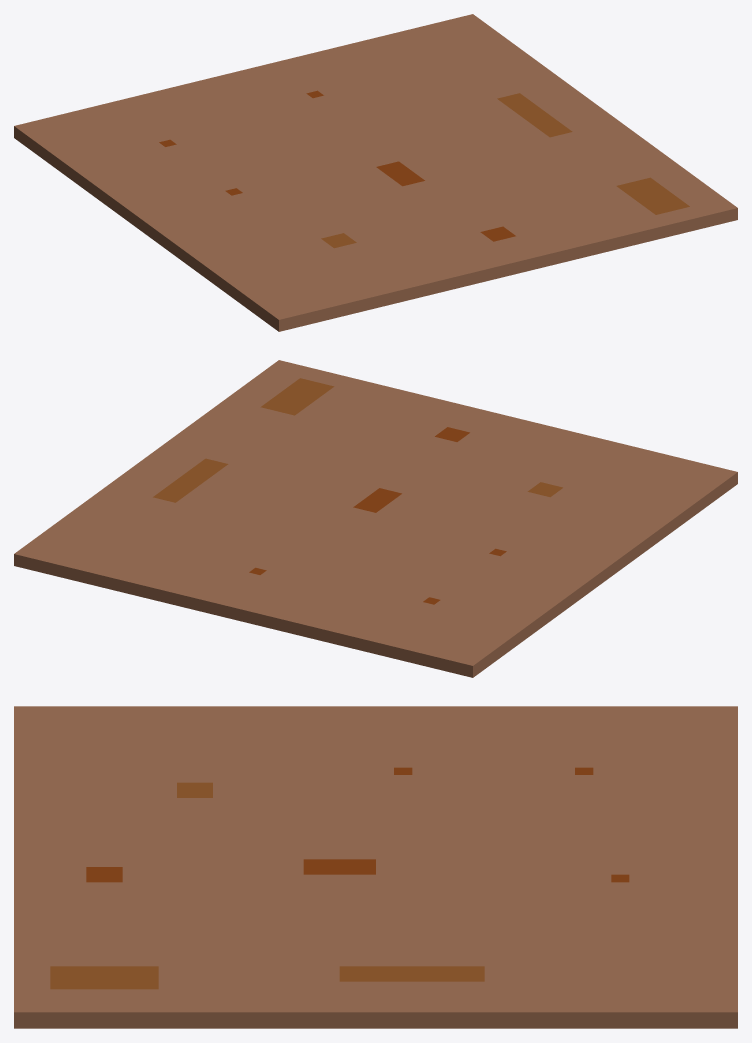
File: floor_7.obj
3 views of the same model, one above another, from view 1: azimuth 30°, elevation 25°; view 2: azimuth 150°, elevation 25°; view 3: azimuth 270°, elevation 25° (orthographic). The views are drawn at different scales.
Size of the model in its own units: 40 by 1 by 40.
Materials: 1 (1 with a texture image).
